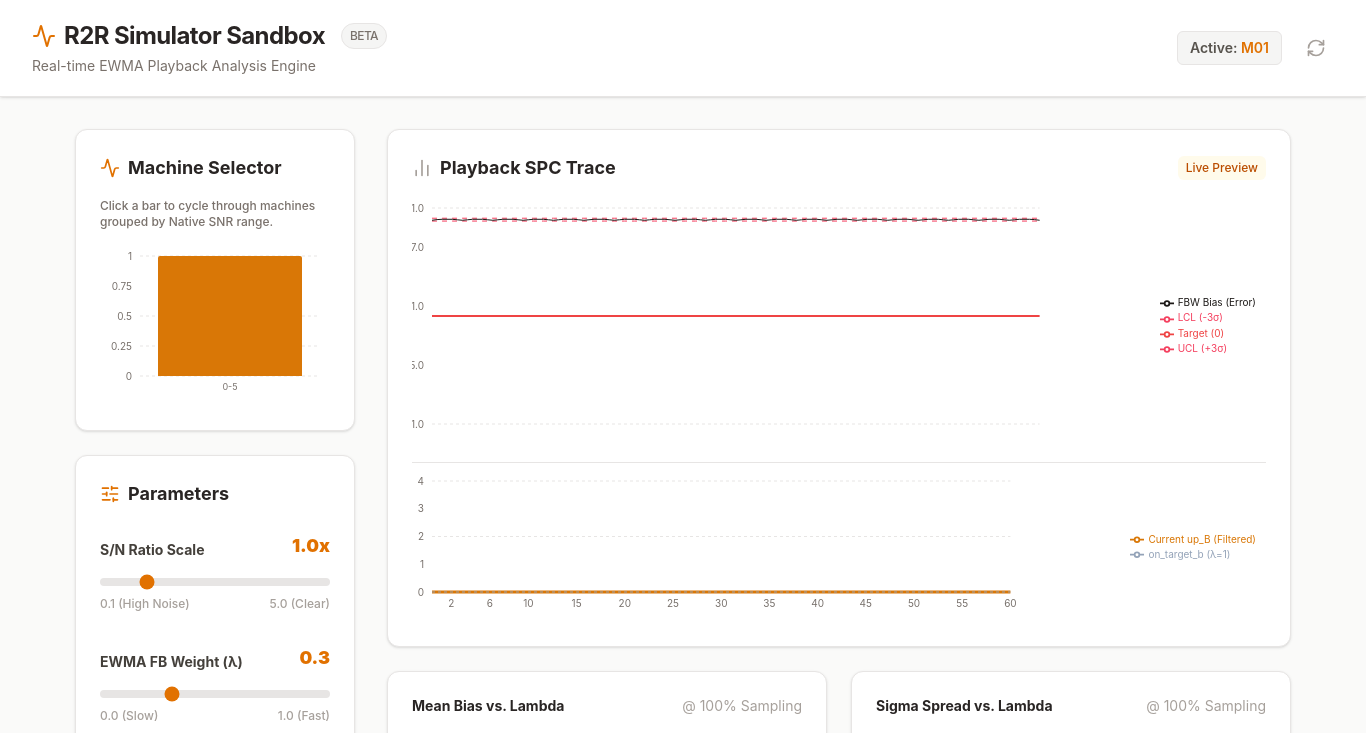
Test: R2R Sandbox App › User Interactions › should update SNR Multiplier text when slider changes
The image size is (1366, 733).
Expected: the text "M01" is shown, top-left (1241, 39), bottom-right (1269, 56)
Note: Slider 1: SNR Multiplier
Set the slider below "S/N Ratio Scale" to "2.5" at coordinates (213, 582), box top-left (100, 578), bottom-right (330, 586)
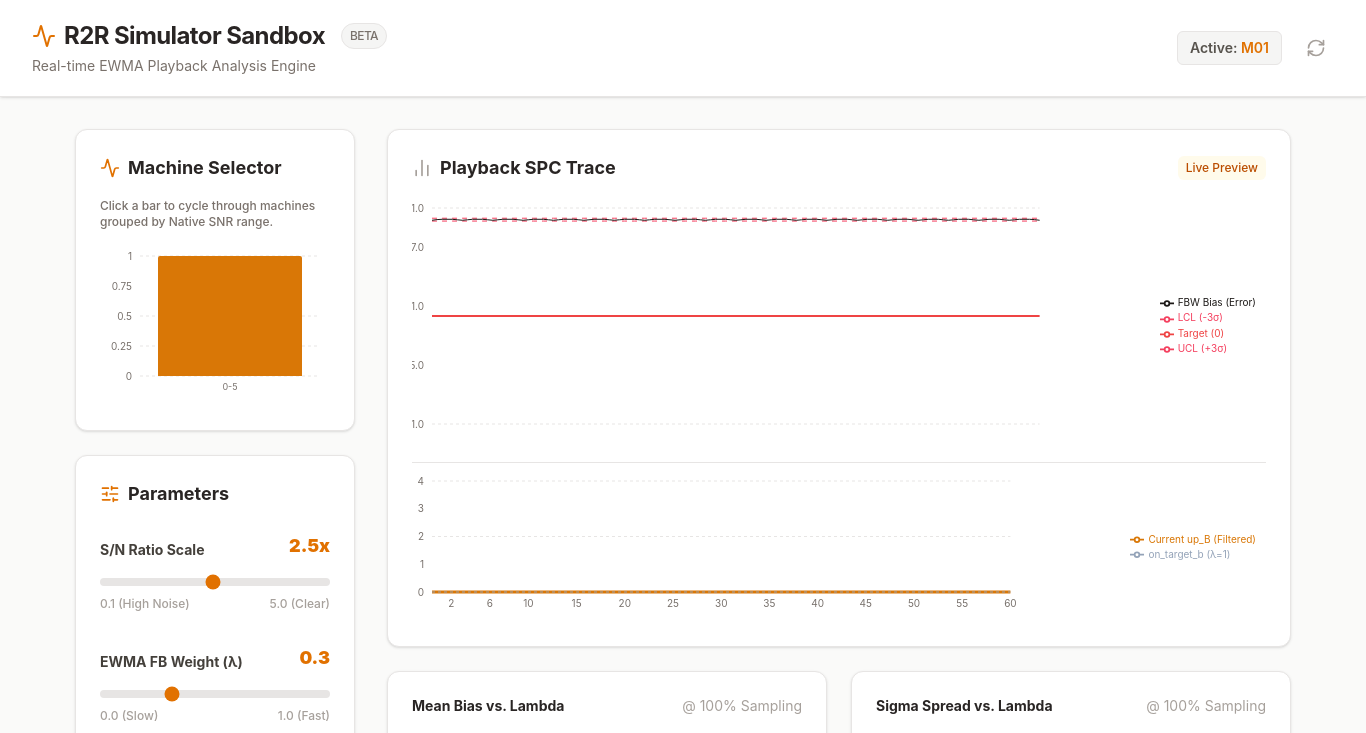
Now the text "2.5x" is shown, box top-left (289, 532), bottom-right (330, 560)
